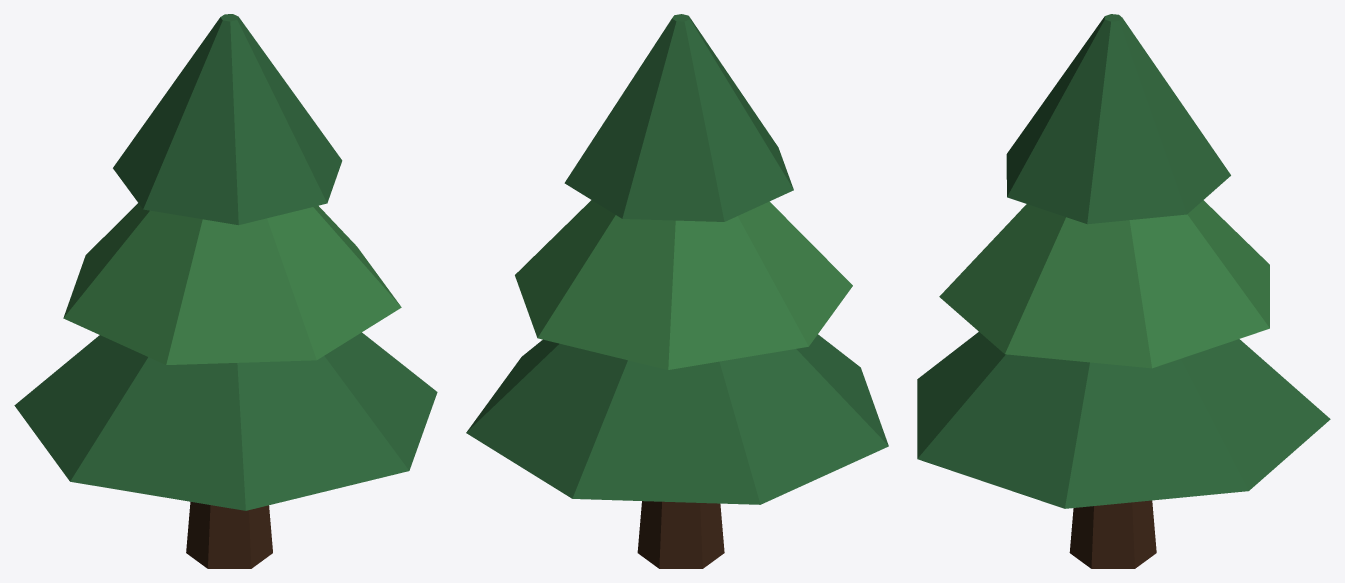
The model's file is tree_pine.glb.
3 views of the same model, side by side, from view 1: azimuth 30°, elevation 25°; view 2: azimuth 150°, elevation 25°; view 3: azimuth 270°, elevation 25° (orthographic).
Parts seen in each view (by area): view 1: cone_0, cone_1, cone_2, trunk; view 2: cone_0, cone_1, cone_2, trunk; view 3: cone_0, cone_1, cone_2, trunk.
Part boxes in pixels (x1,y1,x2,y2): cone_0: (14,332,437,510); cone_1: (63,203,401,364); cone_2: (113,14,342,225); trunk: (186,501,272,568); cone_0: (466,334,888,504); cone_1: (515,200,852,369); cone_2: (564,14,793,221); trunk: (637,501,724,568); cone_0: (917,332,1330,508); cone_1: (939,200,1269,368); cone_2: (1006,14,1230,224); trunk: (1069,500,1156,568).
Size of the model in its own units: 1.36 by 1.9 by 1.33.
